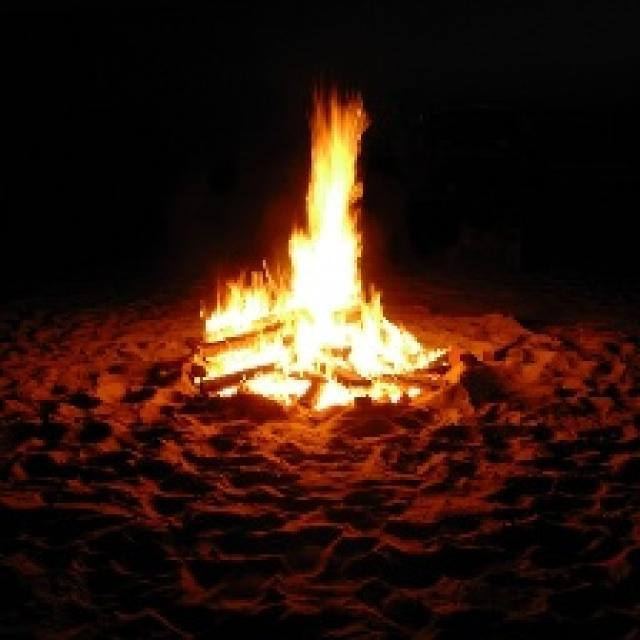Fire: (204, 93, 424, 404)
